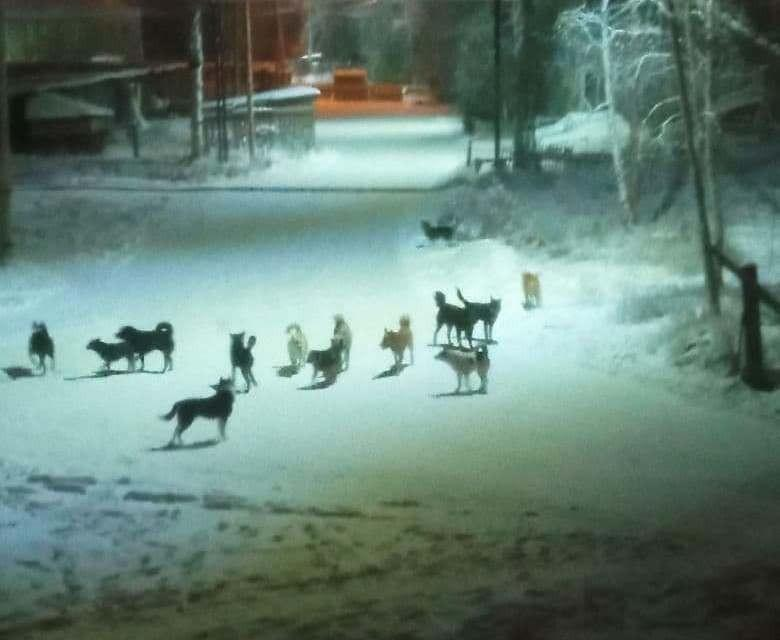dog_aggressive: (161, 375, 237, 449)
normal_dogs: (433, 344, 495, 398), (117, 320, 176, 374), (433, 291, 479, 351), (455, 285, 502, 343), (24, 320, 63, 382), (84, 335, 138, 379), (308, 335, 348, 390), (380, 313, 415, 374), (228, 330, 259, 393), (332, 311, 355, 366), (285, 321, 310, 371), (517, 267, 544, 313), (417, 219, 459, 247)
